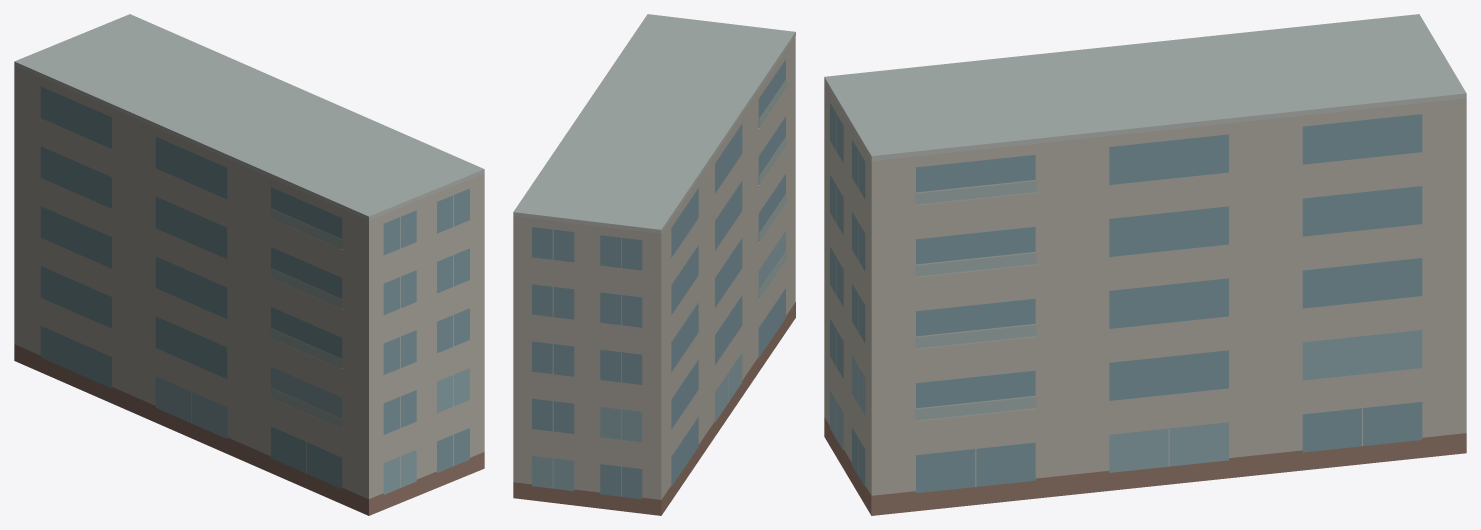
Rendered from survey-upis-32703973.glb.
3 views of the same model, side by side, from view 1: azimuth 30°, elevation 25°; view 2: azimuth 150°, elevation 25°; view 3: azimuth 270°, elevation 25° (orthographic). The views are drawn at different scales.
Parts seen in each view (by area): view 1: survey-upis-32703973.tmp; view 2: survey-upis-32703973.tmp; view 3: survey-upis-32703973.tmp.
Part boxes in pixels (x1,y1,x2,y2): survey-upis-32703973.tmp: [14, 14, 484, 515]; survey-upis-32703973.tmp: [513, 14, 795, 515]; survey-upis-32703973.tmp: [824, 14, 1466, 515].
Bounding box in the file's own units: 15.22 × 17.95 × 29.06.
